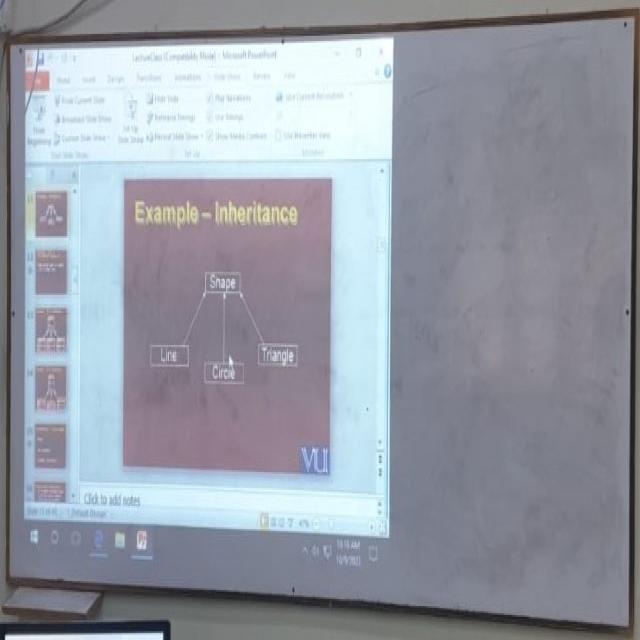Slide: (24, 26, 392, 577)
White-board: (6, 14, 638, 634)
